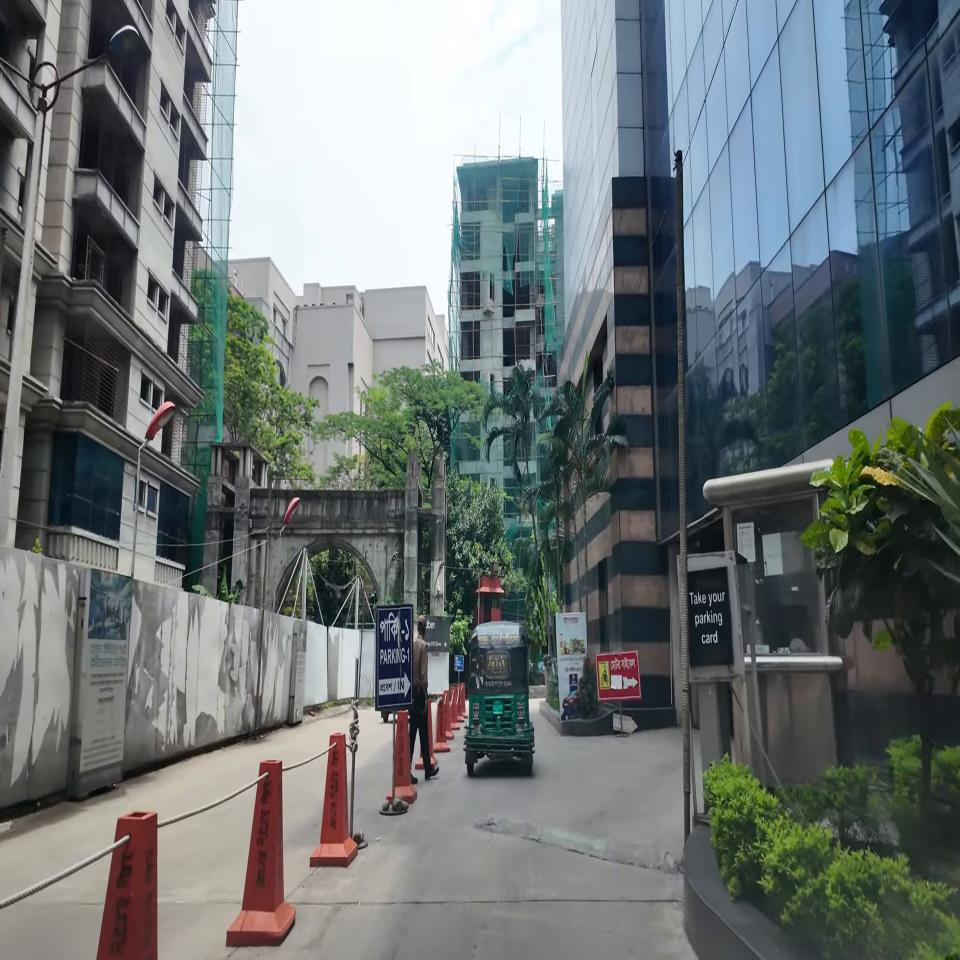person: (412, 615, 440, 786)
